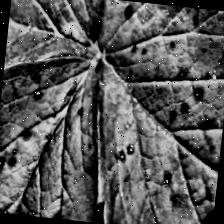Leaf Spot: (79, 0, 224, 224), (0, 49, 139, 224), (0, 0, 107, 156)
